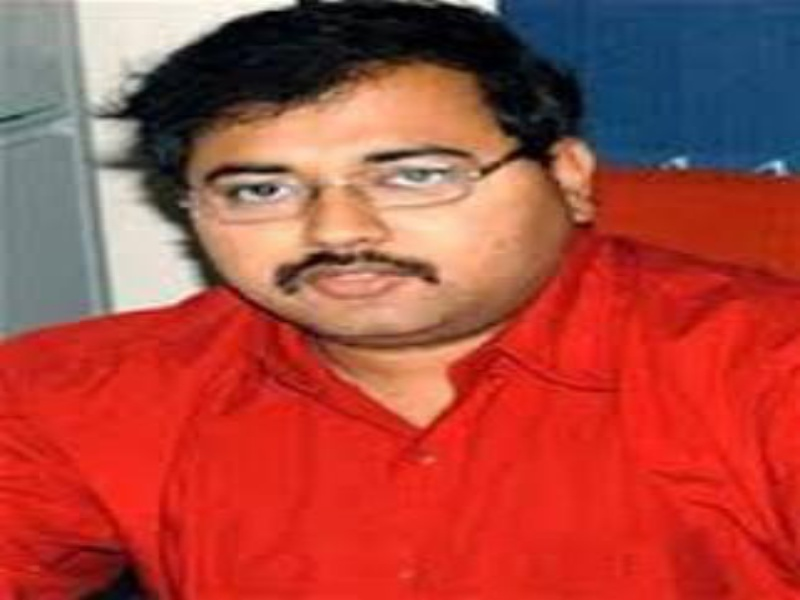TsisyArotava: (161, 34, 587, 350)
